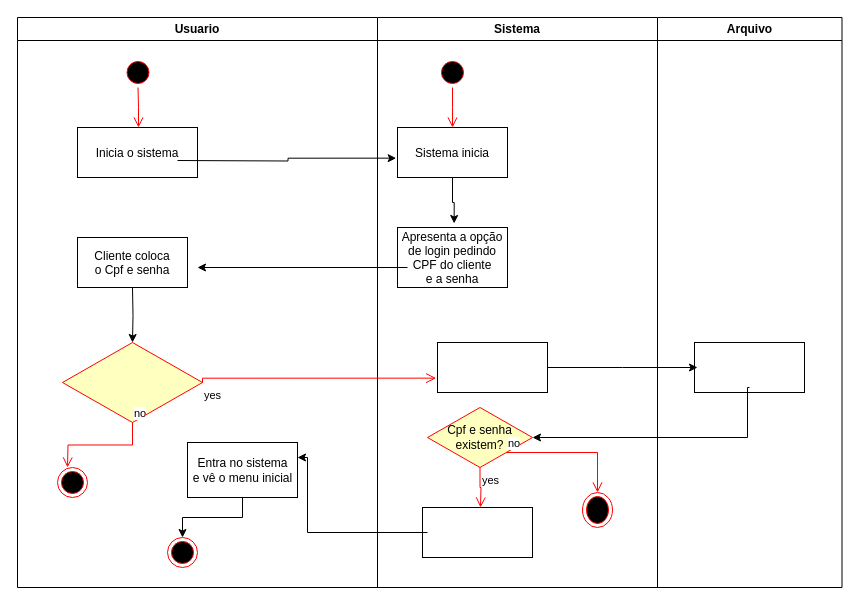
The diagram is 860 pixels wide and 605 high, and some of its shapes have lost their labels. Here are the shapes that lost their labels. From the top down, the centre of each, then its label:
At (x=132, y=382): "CPF e senha são válidos".
At (x=492, y=367): "Sistema procura no arquivo o cpf inserido e a senha".
At (x=749, y=367): "Entrega a resposta se as informações existem".
At (x=477, y=532): "Loga o cliente e apresenta um menu".
